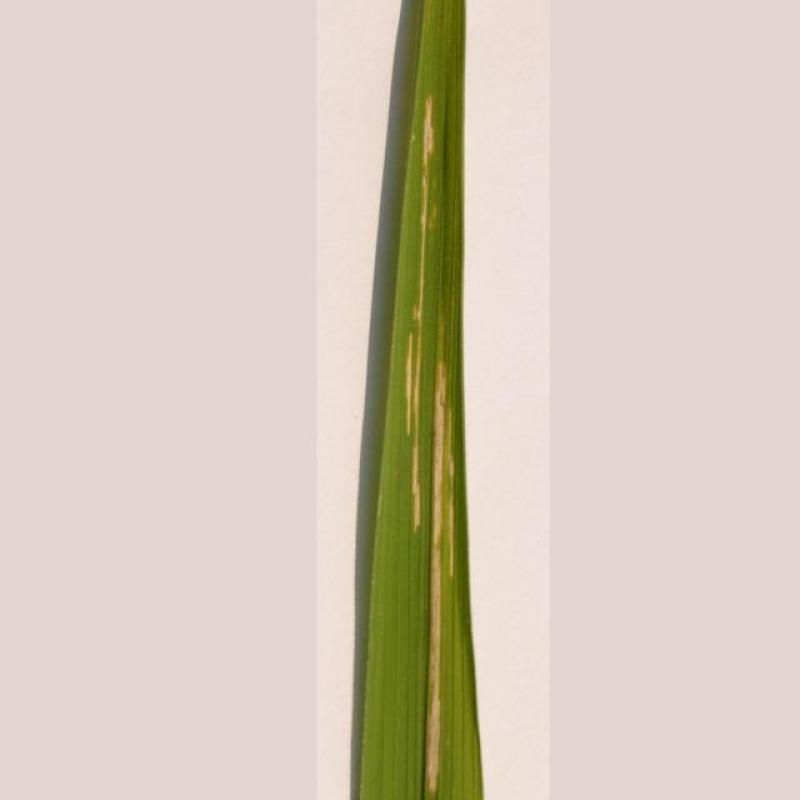Bacterial_Leaf_Blight: (395, 116, 477, 800)
